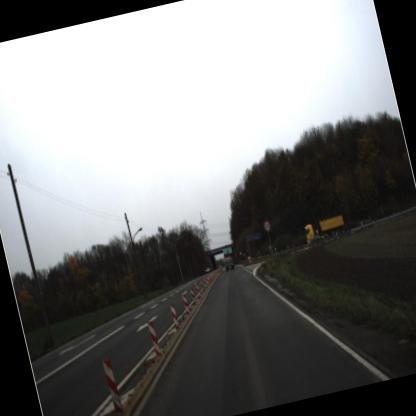prohibitory: (261, 218, 273, 234)
